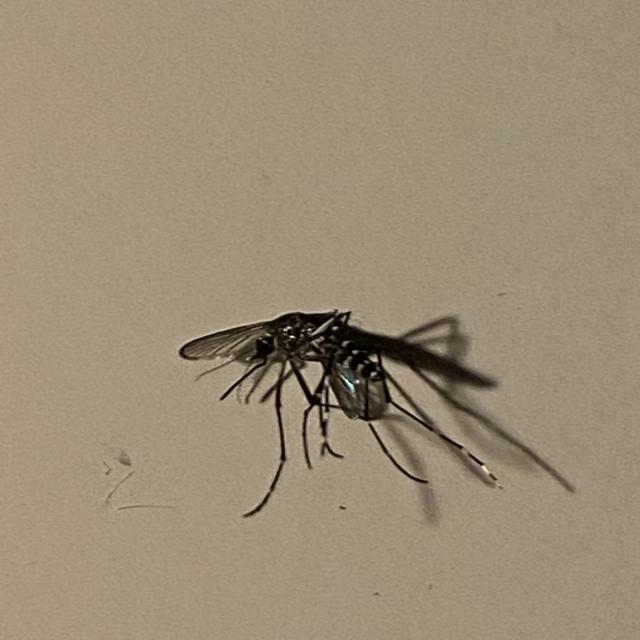albopictus: (171, 280, 531, 527)
